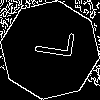L: (25, 25, 75, 60)
